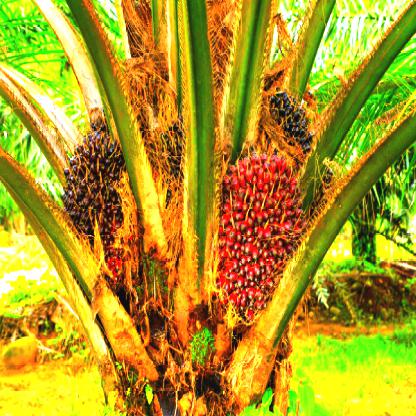palm-oil: (218, 154, 303, 315), (58, 128, 130, 264), (244, 83, 322, 149), (143, 107, 191, 202)
